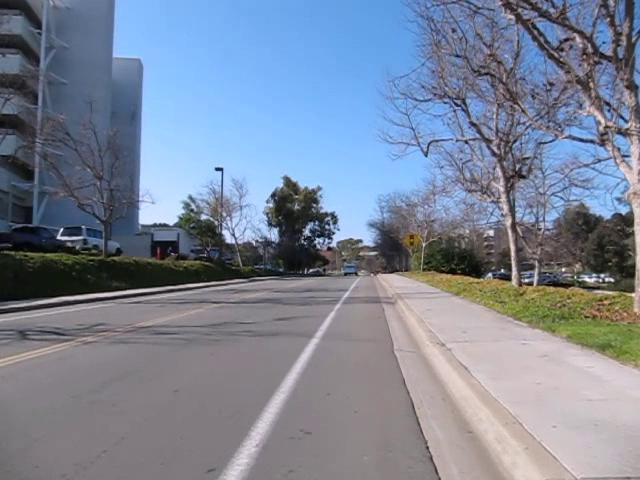signalAhead: (400, 230, 421, 250)
